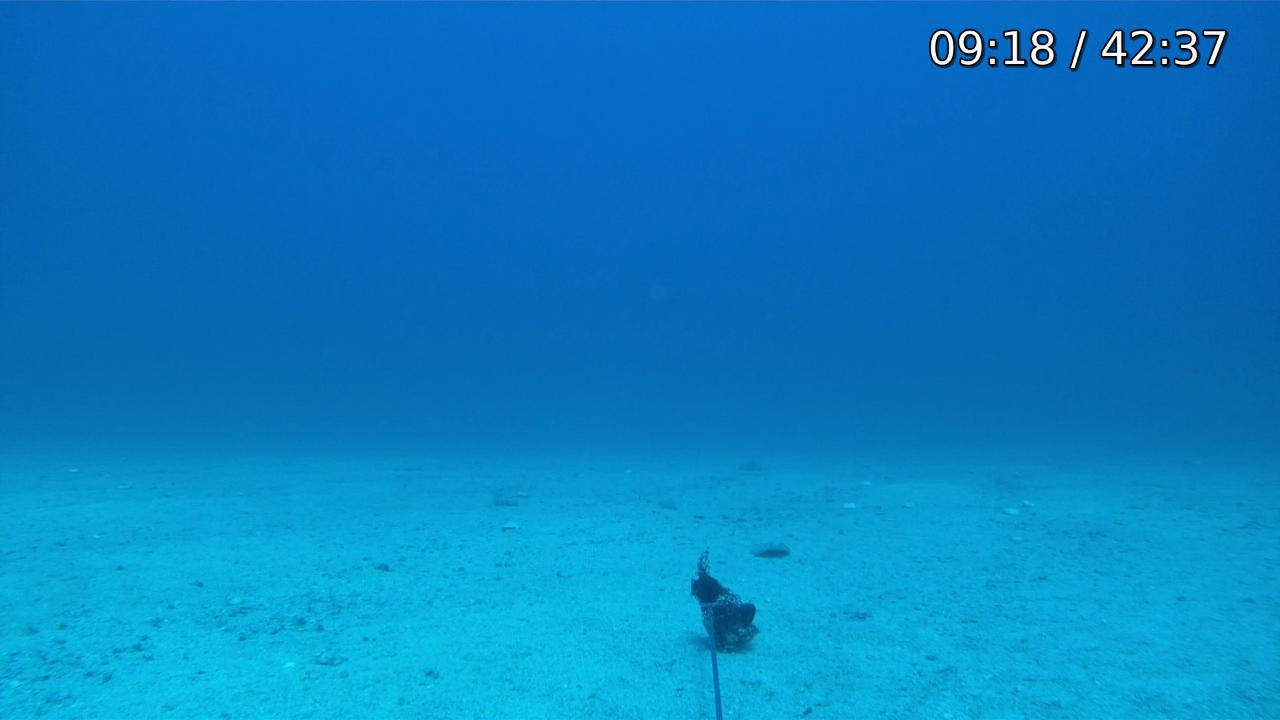bothus: (744, 534, 793, 560)
